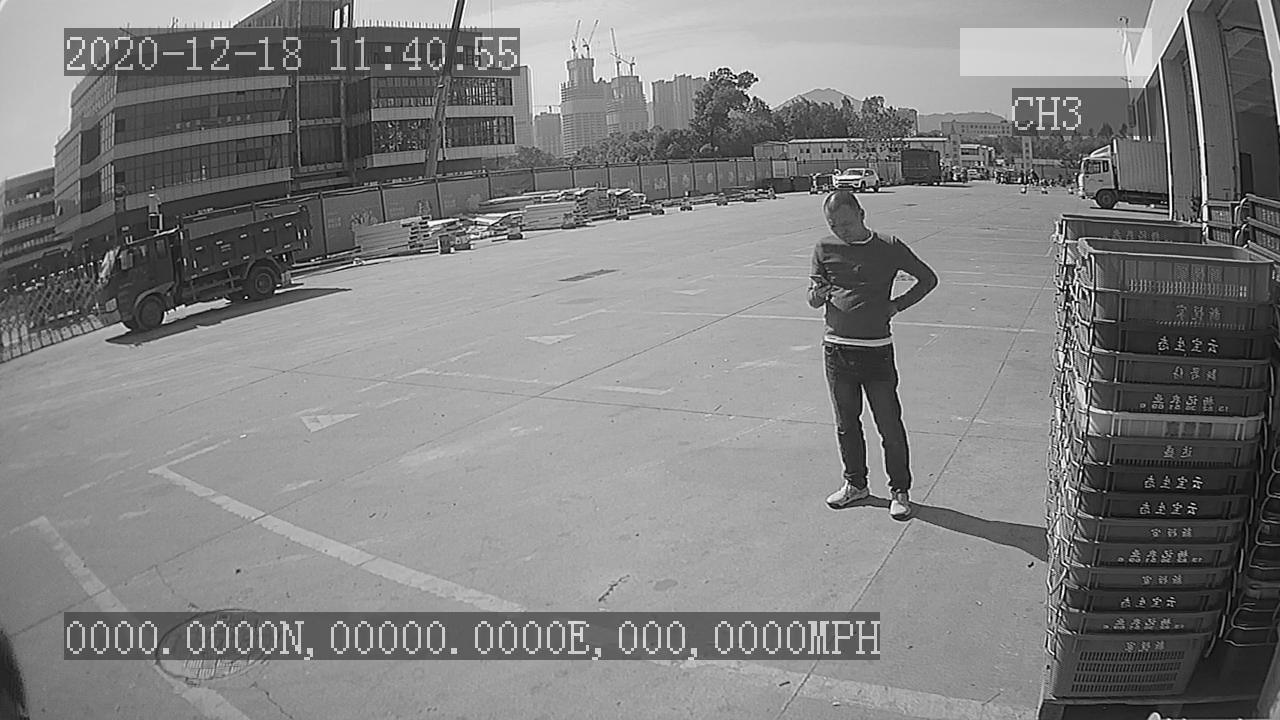person: (806, 188, 941, 517)
